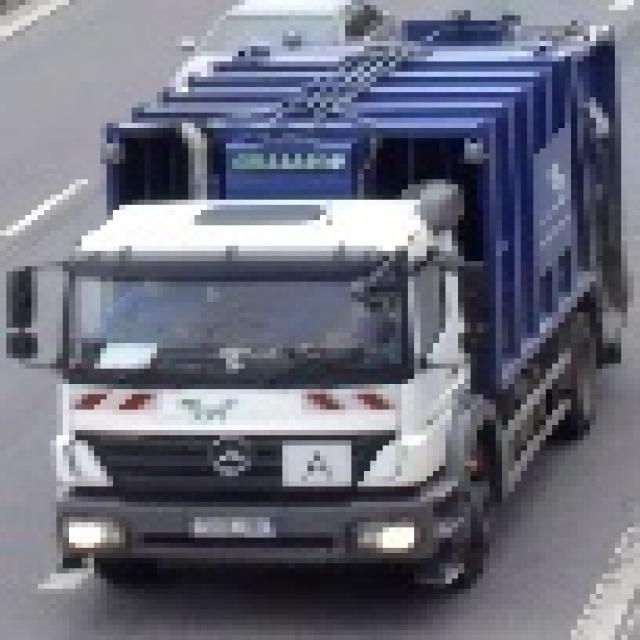truck: (0, 5, 634, 589)
